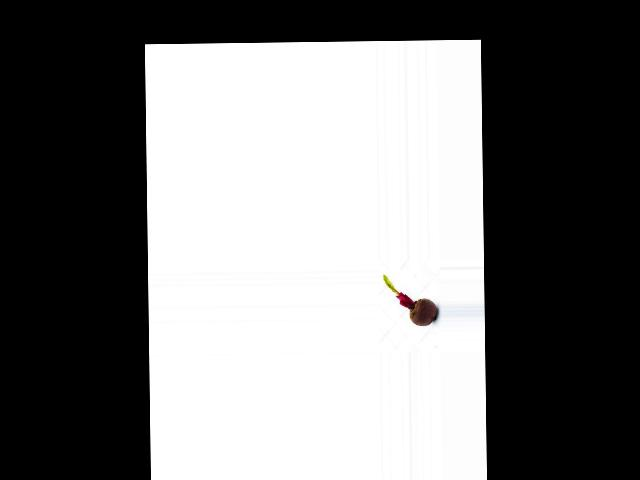beet: (383, 274, 437, 327)
